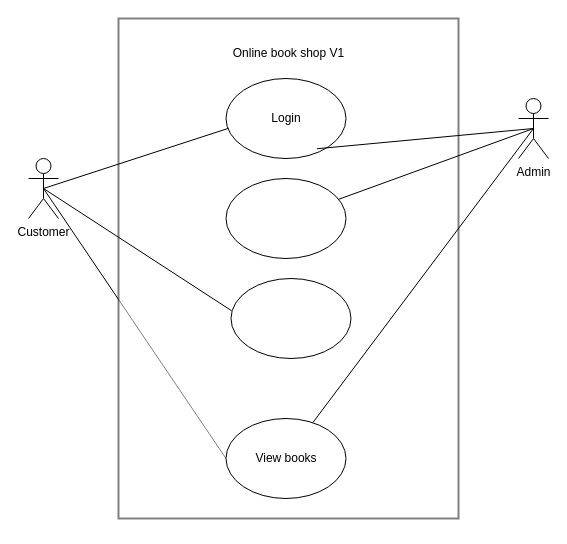
This 567x544 diagram has some shape labels left out. Here are the shapes that lost their labels. From the top down, the centre of each, then its label:
the point at 285,218: Manage books (add, edit, update, delete)
the point at 290,318: Sale books
